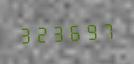nine: (82, 19, 97, 42)
seven: (98, 18, 113, 41)
six: (66, 20, 81, 43)
three: (50, 20, 65, 44), (17, 22, 32, 45)
two: (33, 21, 48, 44)
